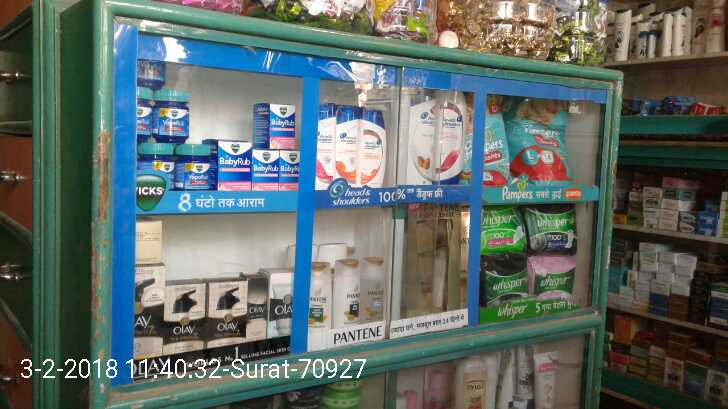beauty: (164, 281, 208, 353), (136, 265, 166, 365), (438, 93, 465, 191), (332, 104, 363, 188), (208, 280, 247, 345), (411, 88, 436, 188), (363, 108, 387, 187), (316, 105, 336, 193), (270, 268, 290, 336)
pharmacy: (139, 86, 302, 190), (505, 95, 572, 181), (478, 253, 532, 308), (524, 254, 576, 301), (527, 207, 580, 251), (481, 207, 527, 249)
